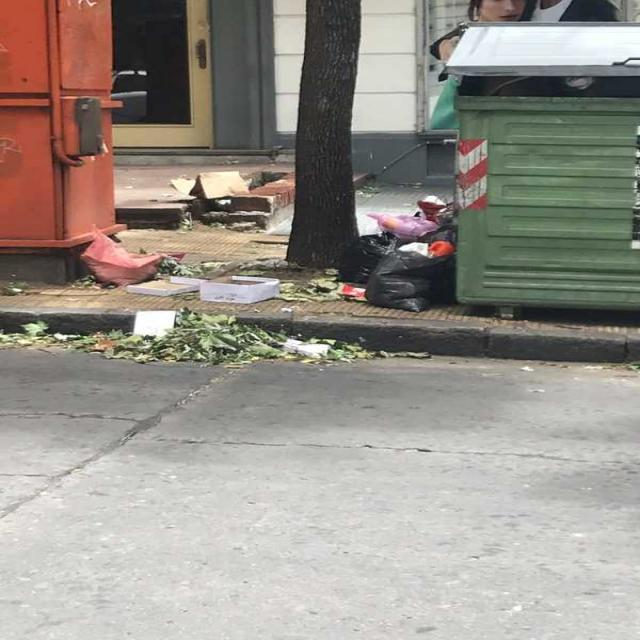garbage: (341, 200, 458, 318), (76, 220, 182, 292), (174, 170, 266, 230), (197, 270, 286, 307), (432, 75, 464, 138)
